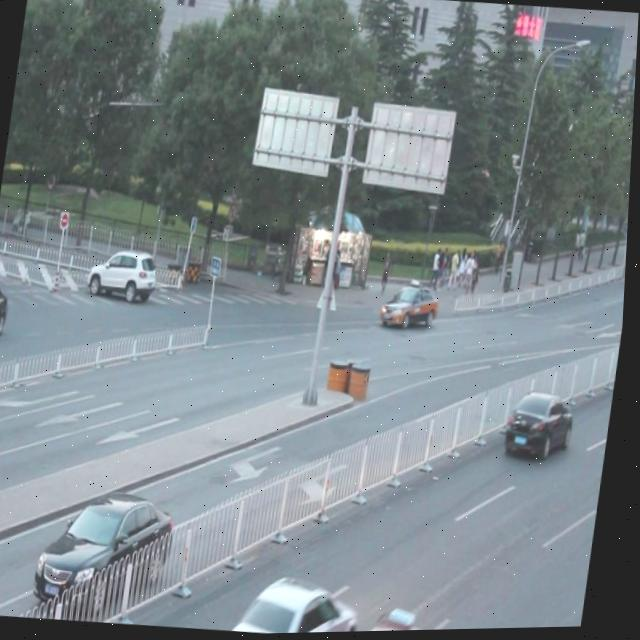car: (34, 481, 183, 608), (235, 560, 368, 635), (505, 389, 579, 459), (88, 247, 162, 304), (381, 281, 443, 333), (366, 604, 442, 633), (0, 284, 14, 339), (0, 554, 9, 615)
